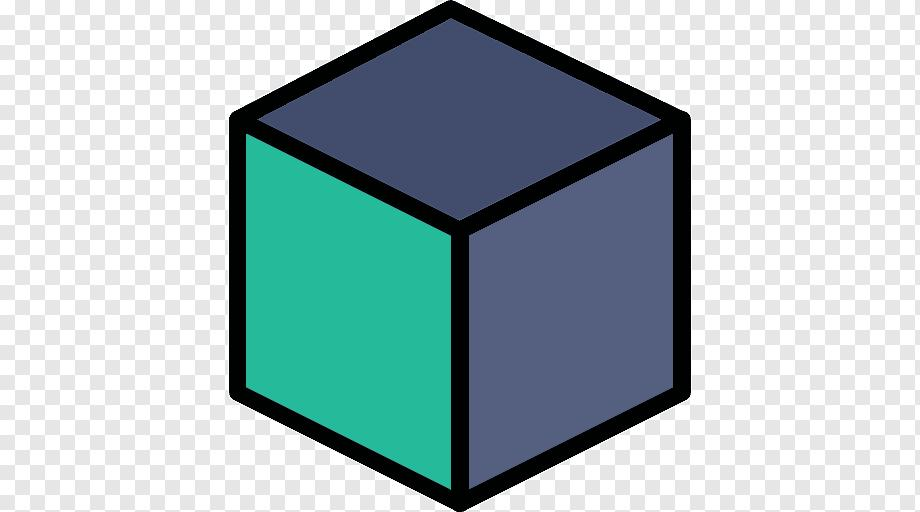cubos: (216, 4, 710, 512)
